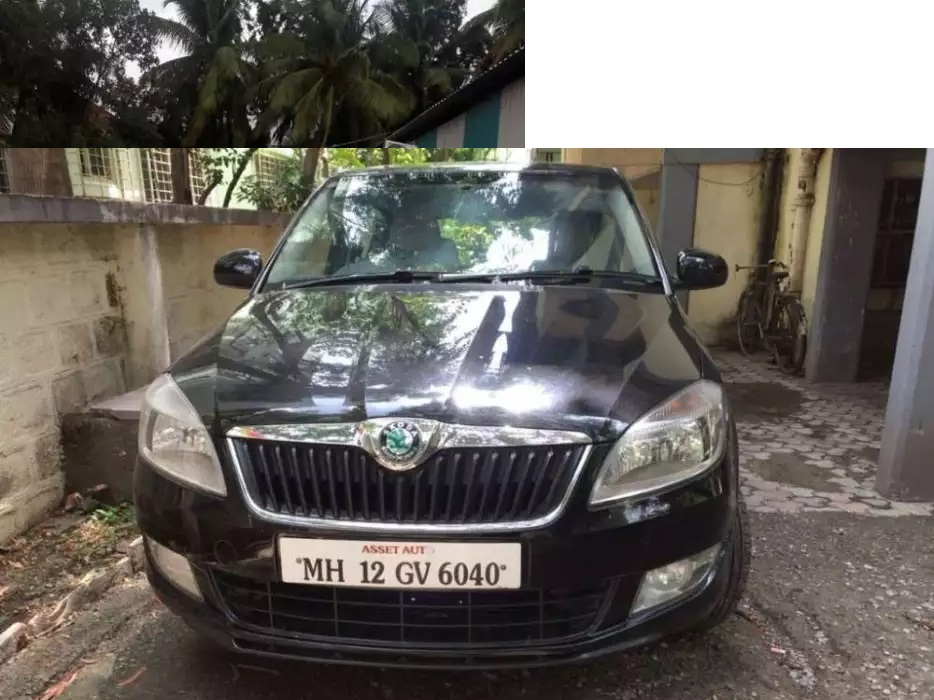licenseplate: (274, 530, 528, 593)
